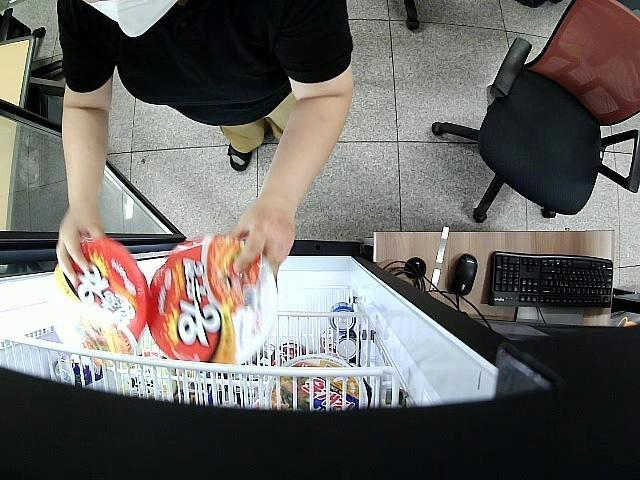10_wangTtukkeong: (150, 234, 274, 366), (47, 242, 148, 360)
